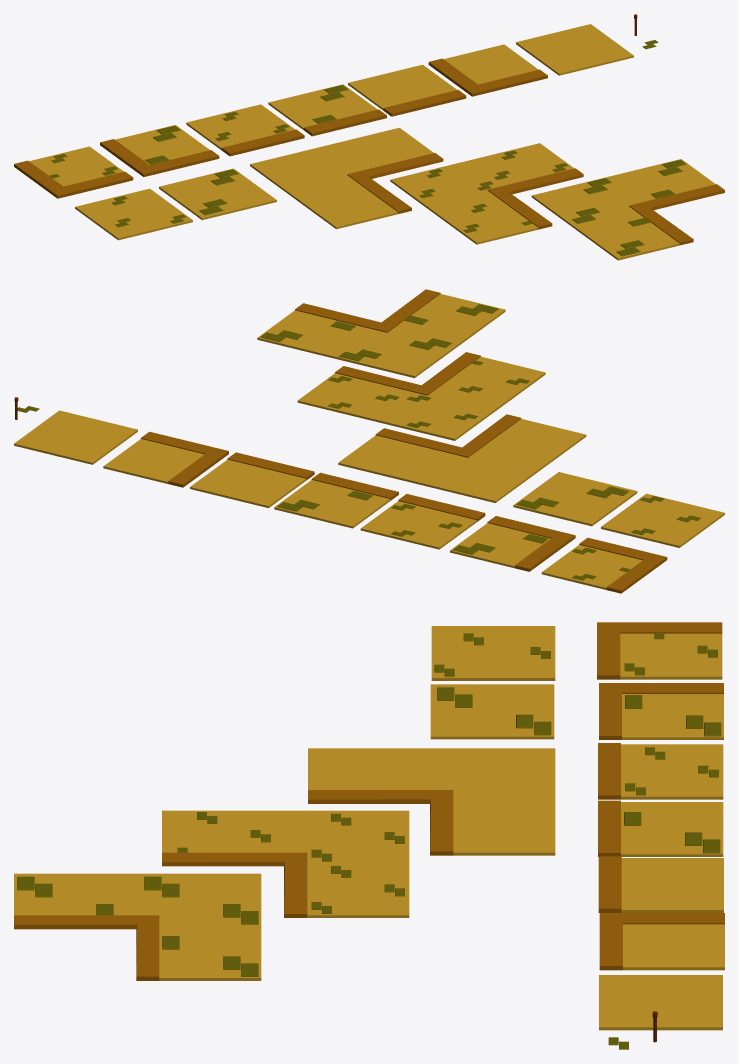
The model's file is PortFloors_v1.fbx.
The picture shows the model from 3 angles, top to bottom: view 1: azimuth 30°, elevation 25°; view 2: azimuth 150°, elevation 25°; view 3: azimuth 270°, elevation 25°; orthographic projection. The views are drawn at different scales.
Visible parts, largest first — view 1: TextilePortFloor_InnerCorner_2, PortFloor_InnerCorner, TextilePortFloor_InnerCorner, PortFloor_OutCorner, TextilePortFloor_OutCorner, TextilePortFloor_OutCorner_2, TextilePortFloor_1Side_2, PortFloor_1Side, TextilePortFloor_1Side, BasicFloor, TextileFloor_1, TextileFloor_2; view 2: TextilePortFloor_InnerCorner_2, TextilePortFloor_InnerCorner, PortFloor_InnerCorner, PortFloor_OutCorner, TextilePortFloor_OutCorner_2, TextilePortFloor_OutCorner, TextilePortFloor_1Side, TextilePortFloor_1Side_2, PortFloor_1Side, TextileFloor_1, TextileFloor_2, BasicFloor; view 3: TextilePortFloor_InnerCorner, TextilePortFloor_InnerCorner_2, PortFloor_InnerCorner, TextilePortFloor_OutCorner_2, PortFloor_OutCorner, TextilePortFloor_OutCorner, TextilePortFloor_1Side_2, TextileFloor_1, PortFloor_1Side, TextilePortFloor_1Side, BasicFloor, TextileFloor_2.
Part boxes in pixels (x1=…): TextilePortFloor_InnerCorner_2: x1=390, y1=143, x2=583, y2=244; PortFloor_InnerCorner: x1=250, y1=127, x2=443, y2=229; TextilePortFloor_InnerCorner: x1=531, y1=159, x2=724, y2=260; PortFloor_OutCorner: x1=428, y1=44, x2=547, y2=96; TextilePortFloor_OutCorner: x1=100, y1=125, x2=219, y2=176; TextilePortFloor_OutCorner_2: x1=14, y1=146, x2=133, y2=198; TextilePortFloor_1Side_2: x1=186, y1=104, x2=304, y2=156; PortFloor_1Side: x1=348, y1=64, x2=466, y2=116; TextilePortFloor_1Side: x1=268, y1=84, x2=386, y2=136; BasicFloor: x1=516, y1=24, x2=633, y2=75; TextileFloor_1: x1=159, y1=168, x2=276, y2=220; TextileFloor_2: x1=75, y1=188, x2=192, y2=240; TextilePortFloor_InnerCorner_2: x1=297, y1=352, x2=545, y2=440; TextilePortFloor_InnerCorner: x1=257, y1=289, x2=505, y2=378; PortFloor_InnerCorner: x1=338, y1=414, x2=586, y2=502; PortFloor_OutCorner: x1=103, y1=431, x2=228, y2=487; TextilePortFloor_OutCorner_2: x1=541, y1=537, x2=667, y2=593; TextilePortFloor_OutCorner: x1=450, y1=516, x2=575, y2=571; TextilePortFloor_1Side: x1=274, y1=472, x2=398, y2=528; TextilePortFloor_1Side_2: x1=360, y1=494, x2=485, y2=549; PortFloor_1Side: x1=190, y1=452, x2=314, y2=507; TextileFloor_1: x1=513, y1=472, x2=637, y2=526; TextileFloor_2: x1=601, y1=493, x2=724, y2=547; BasicFloor: x1=14, y1=410, x2=137, y2=464; TextilePortFloor_InnerCorner: x1=14, y1=873, x2=261, y2=980; TextilePortFloor_InnerCorner_2: x1=162, y1=810, x2=409, y2=917; PortFloor_InnerCorner: x1=308, y1=748, x2=555, y2=855; TextilePortFloor_OutCorner_2: x1=597, y1=622, x2=722, y2=679; PortFloor_OutCorner: x1=599, y1=913, x2=724, y2=970; TextilePortFloor_OutCorner: x1=599, y1=683, x2=723, y2=739; TextilePortFloor_1Side_2: x1=598, y1=743, x2=723, y2=799; TextileFloor_1: x1=430, y1=684, x2=554, y2=739; PortFloor_1Side: x1=598, y1=856, x2=723, y2=912; TextilePortFloor_1Side: x1=598, y1=800, x2=723, y2=856; BasicFloor: x1=599, y1=975, x2=722, y2=1030; TextileFloor_2: x1=431, y1=626, x2=555, y2=680.
Bounding box in the file's own units: 8143 × 293 × 5746.
